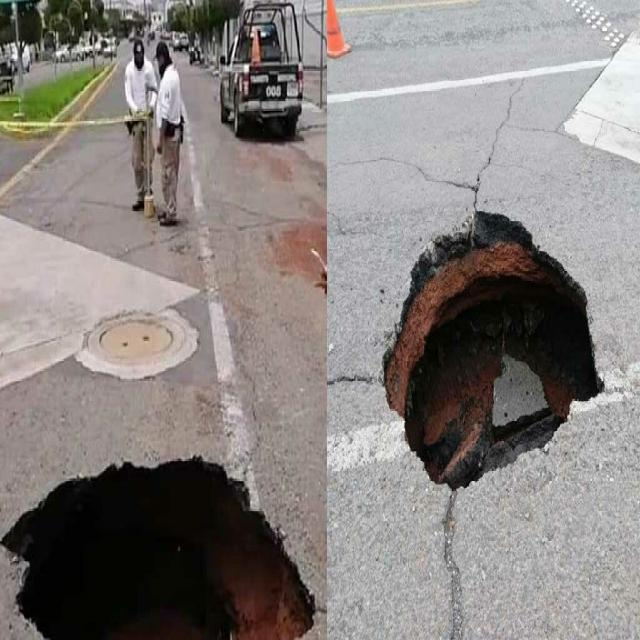Pothole: (377, 165, 618, 546), (6, 411, 313, 640)
